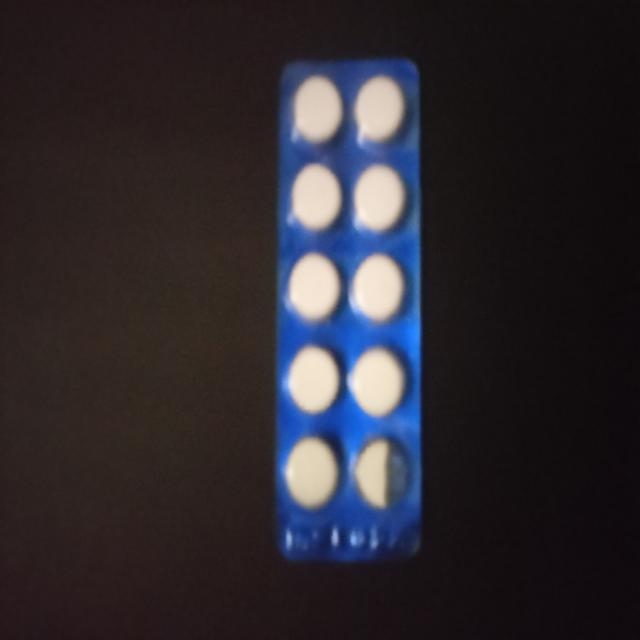defect: (352, 433, 412, 516)
